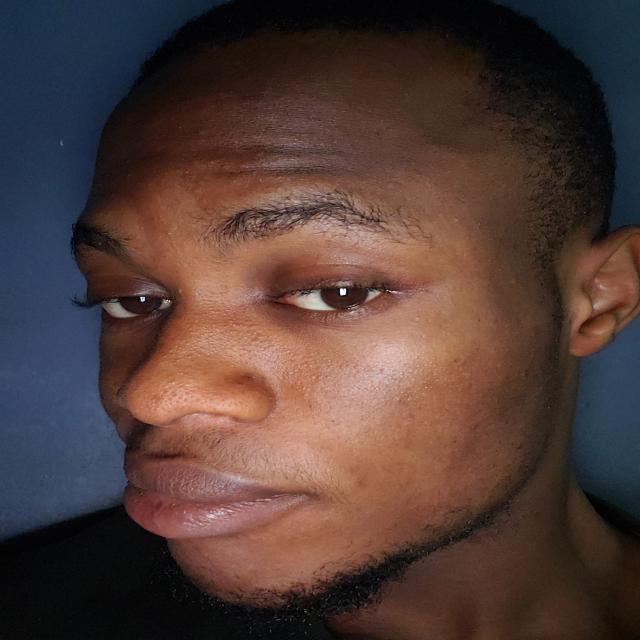Acne: (501, 272, 524, 288), (354, 475, 371, 490), (447, 352, 462, 368), (160, 226, 178, 238), (383, 178, 400, 190), (449, 214, 467, 224), (173, 285, 186, 297), (146, 212, 160, 222)
Englarged-Pores: (259, 332, 336, 396), (144, 338, 199, 416), (198, 311, 261, 364), (336, 364, 418, 404), (233, 102, 312, 135)
Wrinkles: (222, 162, 348, 175), (201, 143, 352, 153)
